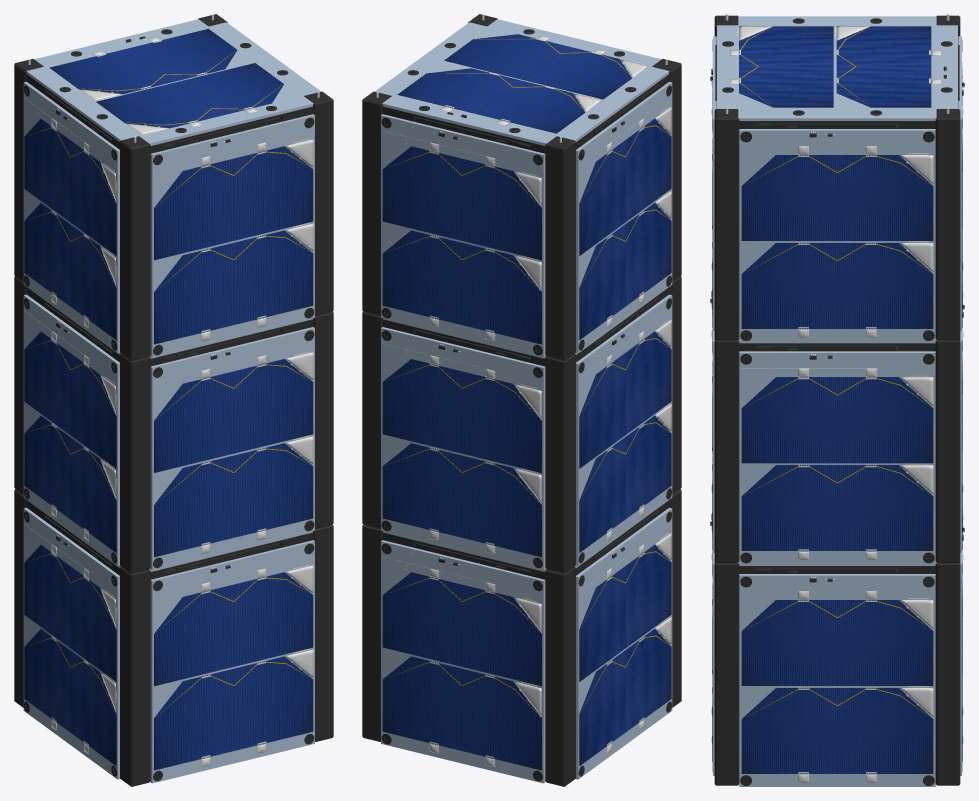
The model's file is Cubesat3astack.glb.
3 views of the same model, side by side, from view 1: azimuth 30°, elevation 25°; view 2: azimuth 150°, elevation 25°; view 3: azimuth 270°, elevation 25° (orthographic). The views are drawn at different scales.
Parts seen in each view (by area): view 1: Panel.002 (×3), Panel.001 (×3), Struts (×3), Bolt.001, InnerCube (×3); view 2: Panel (×3), Panel.001 (×3), Struts (×3), Bolt.001, InnerCube (×3); view 3: Panel.003 (×3), Struts (×3), Bolt.001, InnerCube (×3), Panel (×3), Panel.002 (×3), Fold2 (×3).
Part boxes in pixels (left/top/right/bottom): Panel.002 (×3): left=150, top=114, right=314, bottom=783; Panel.001 (×3): left=23, top=81, right=119, bottom=779; Struts (×3): left=14, top=14, right=333, bottom=786; Bolt.001: left=26, top=19, right=320, bottom=145; InnerCube (×3): left=26, top=74, right=313, bottom=579; Panel (×3): left=381, top=114, right=545, bottom=783; Panel.001 (×3): left=576, top=81, right=672, bottom=779; Struts (×3): left=362, top=14, right=681, bottom=786; Bolt.001: left=375, top=19, right=669, bottom=145; InnerCube (×3): left=382, top=74, right=669, bottom=579; Panel.003 (×3): left=739, top=129, right=935, bottom=786; Struts (×3): left=714, top=14, right=960, bottom=785; Bolt.001: left=717, top=16, right=957, bottom=120; InnerCube (×3): left=716, top=29, right=958, bottom=573; Panel (×3): left=958, top=36, right=964, bottom=775; Panel.002 (×3): left=710, top=36, right=716, bottom=775; Fold2 (×3): left=772, top=123, right=895, bottom=572.
Bounding box in the file's own units: 1.04 × 3.11 × 1.04.
5 materials, 1 textured.
